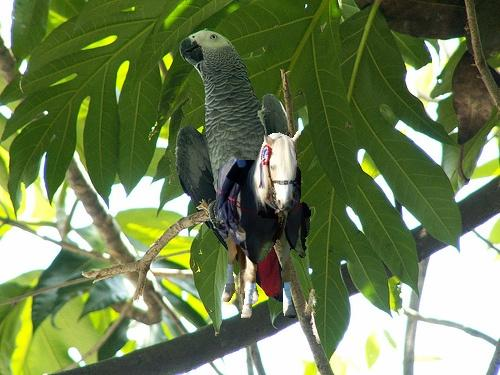tampered: (217, 132, 311, 318)
